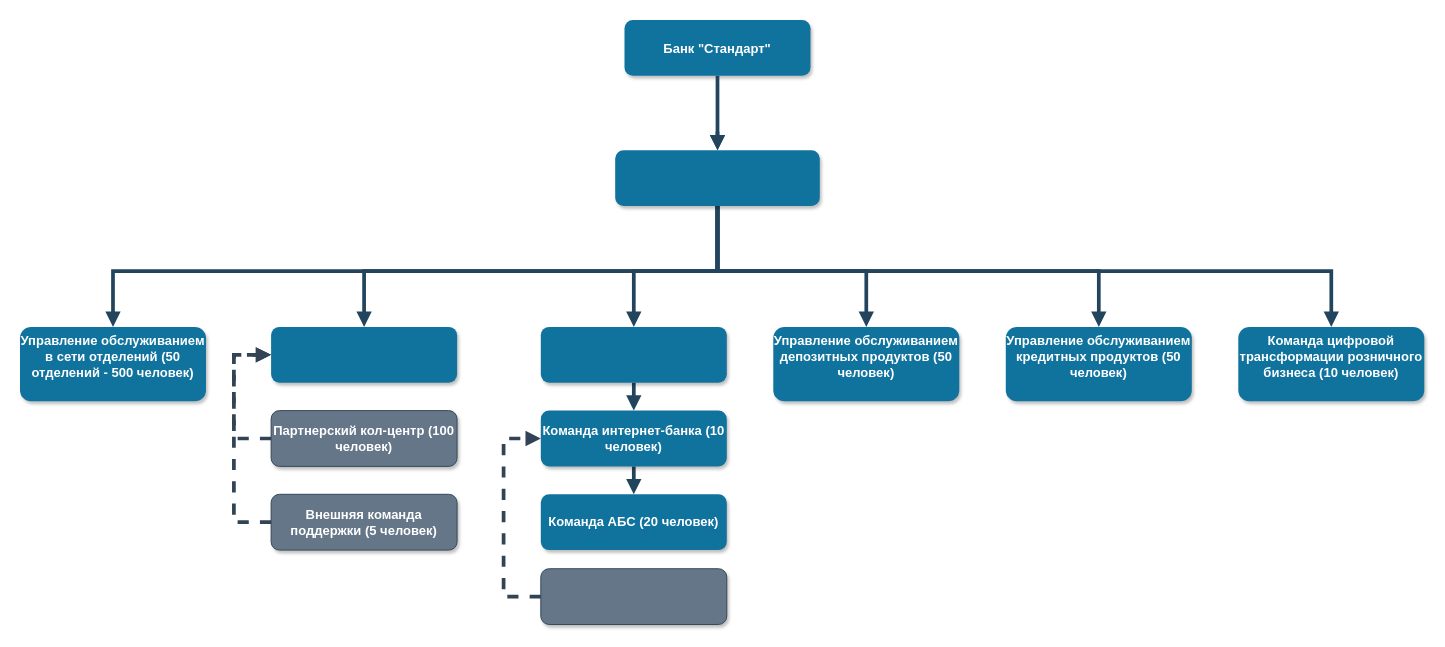
Image size: 1445x647. Some labels were removed from this diagram. The centre of each missing label's shape, as x and y in pixels:
IT-отдел: (634,356)
Внешняя команда интернет-банка (10 человек): (634,597)
Кол-центр (200 человек): (364,356)
Топ-менеджмент: (718,179)
